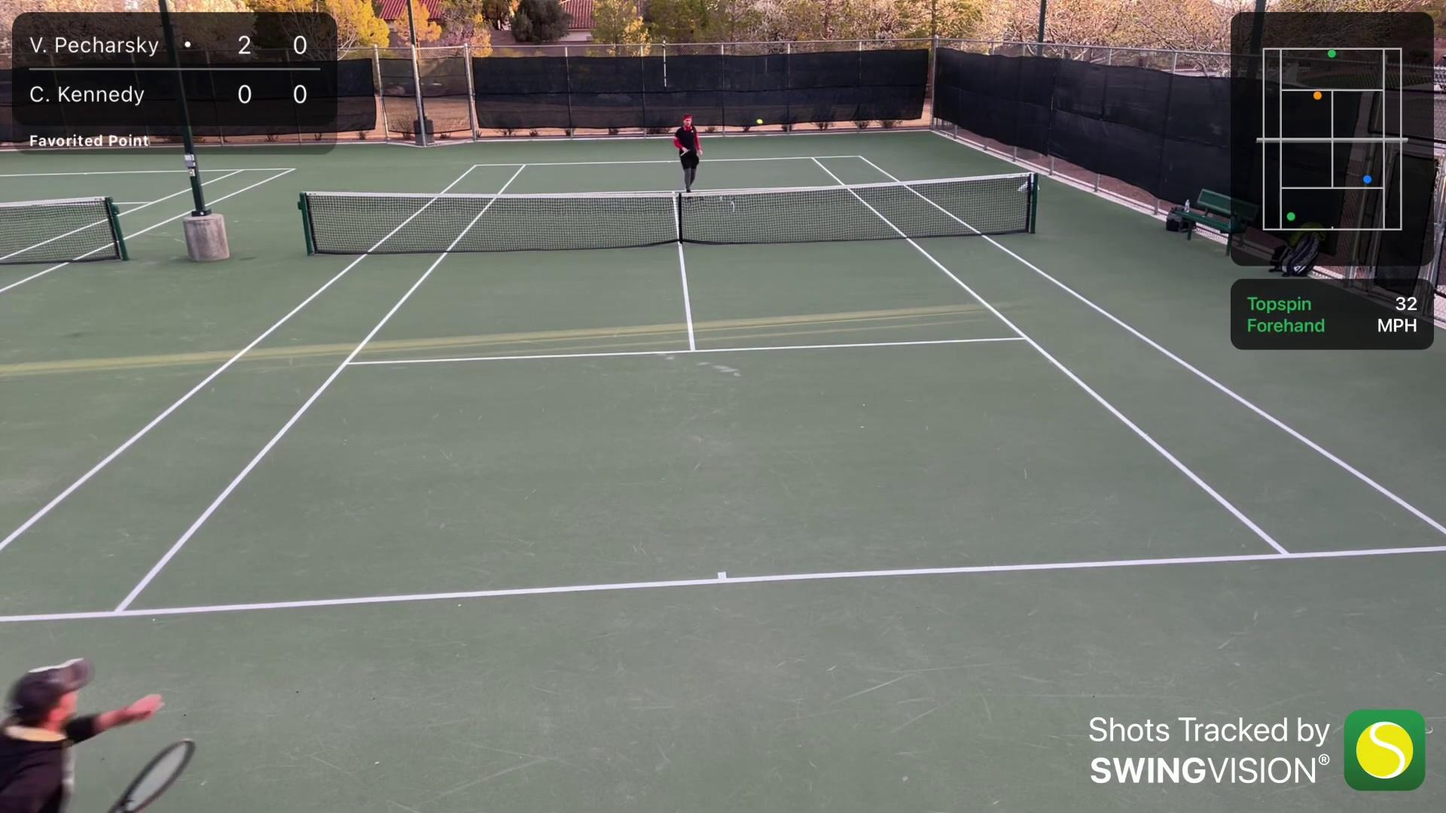ball: (757, 119, 764, 125)
